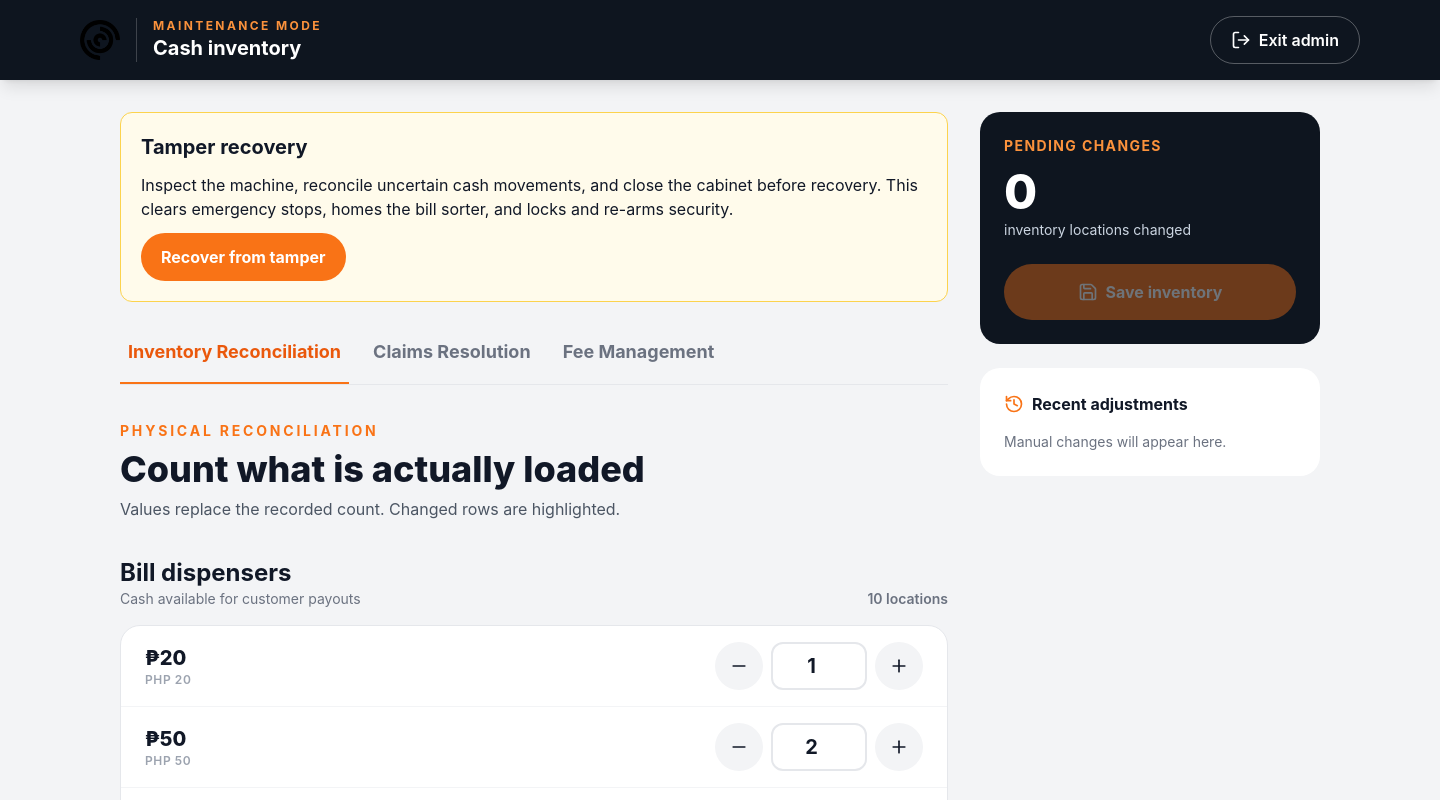
Test: routes provisional STANDARD claims to the appropriate review
This screenshot has width=1440, height=800.
Click the button "Claims Resolution" at (452, 361), box 365,338 -> 539,384
(page scrolled)
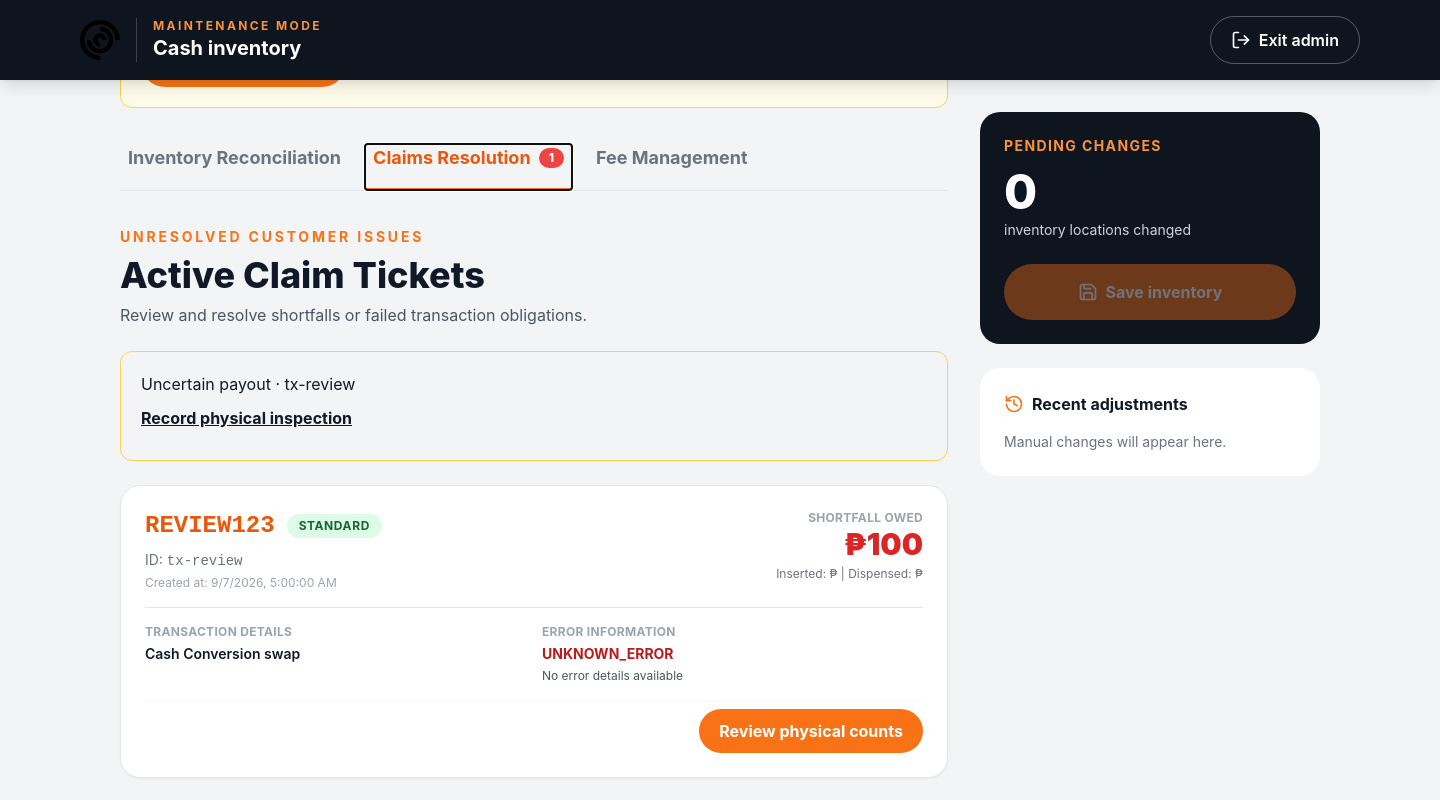
Click the button "Review physical counts" at (811, 731), box 699,709 -> 923,753
(page scrolled)
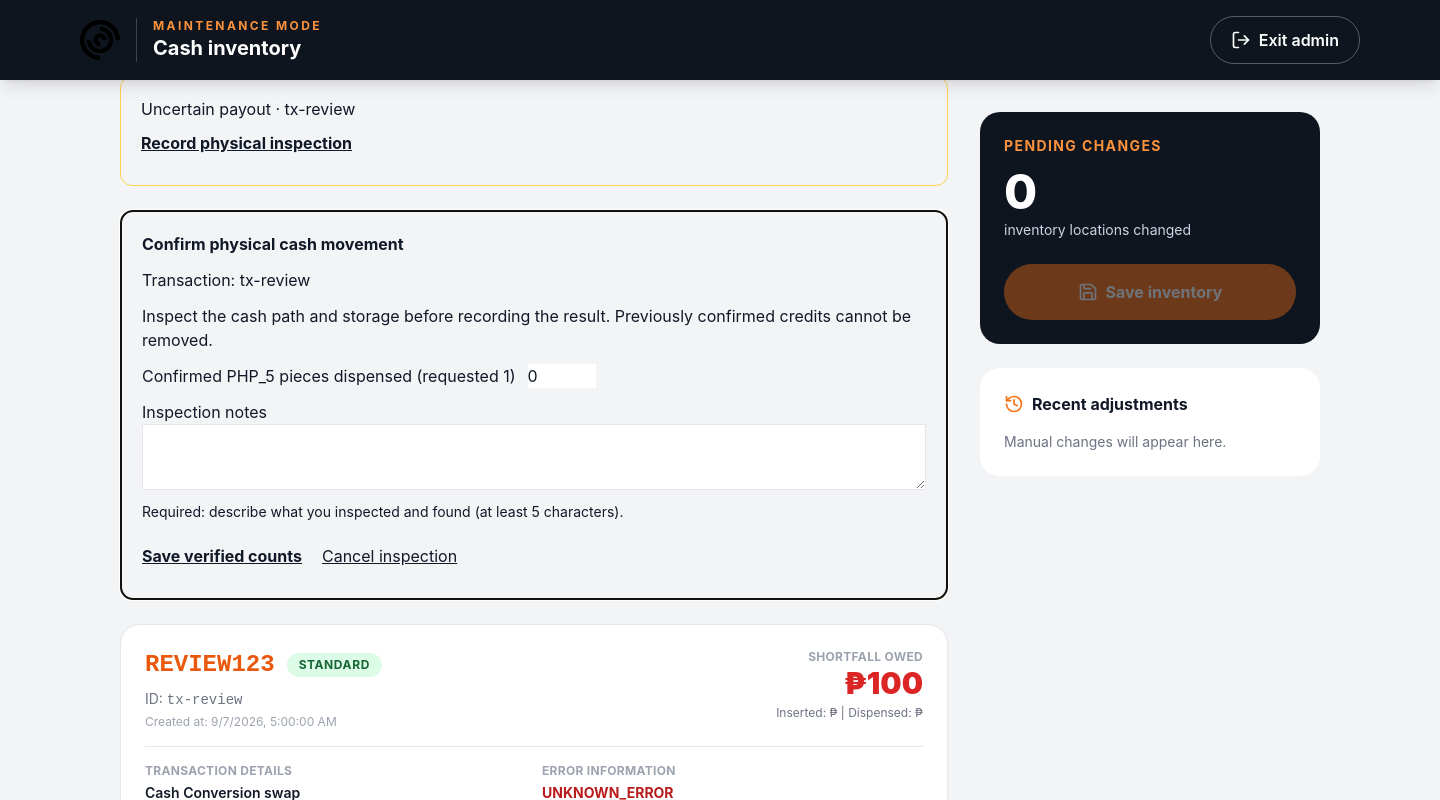
Expected: the heading "Confirm physical cash movement" is shown, 142,234 -> 404,254
Expected: the number field labelled "Confirmed PHP_5 pieces dispensed (requested 1)" is shown, 528,364 -> 596,388
Click the button "Save verified counts" at (222, 556), box 142,534 -> 302,578
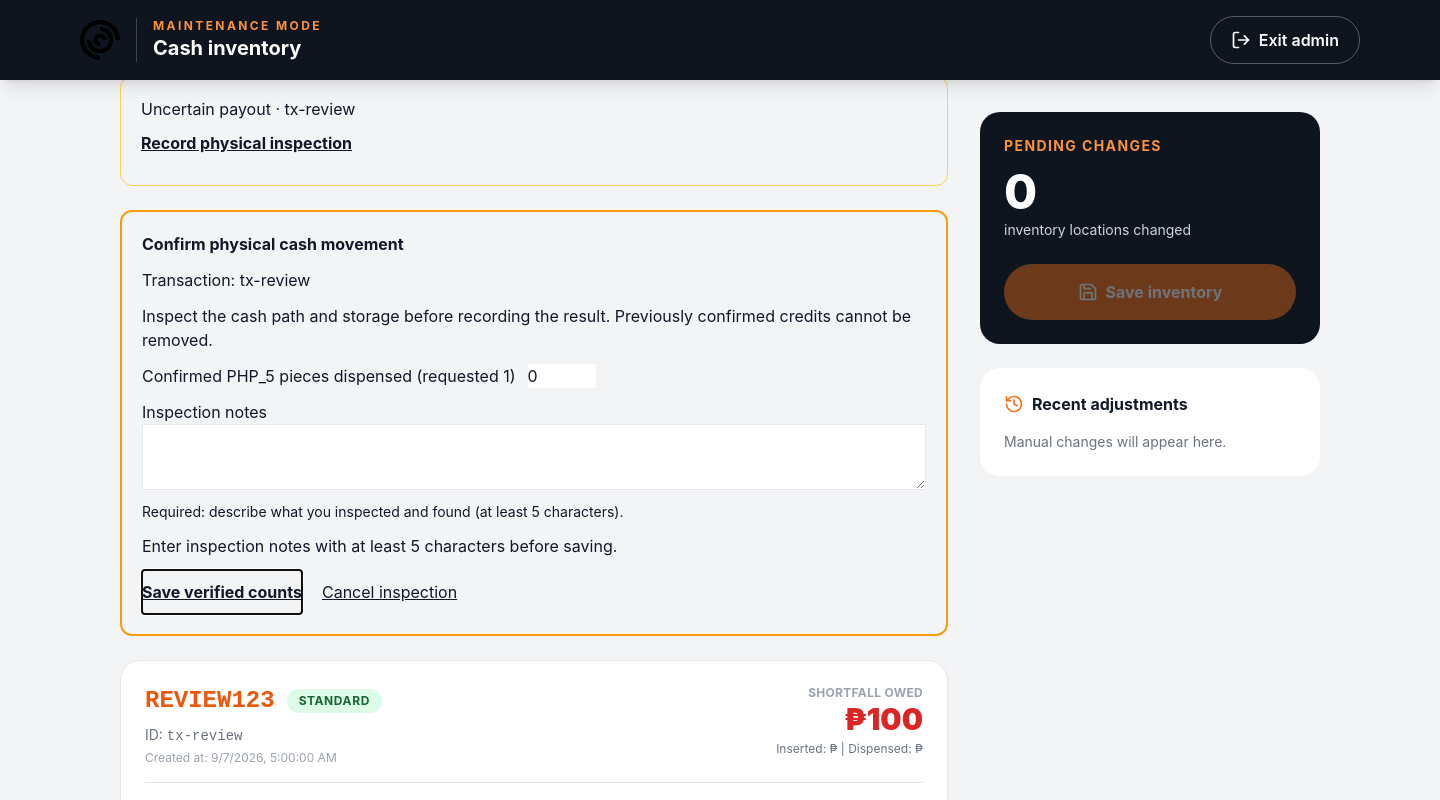
Expected: the message shows "Enter inspection notes with at least 5 characters", 142,536 -> 617,556
Type "Verified one coin" into the text box labelled "Inspection notes" at (534, 457), box 142,424 -> 926,490
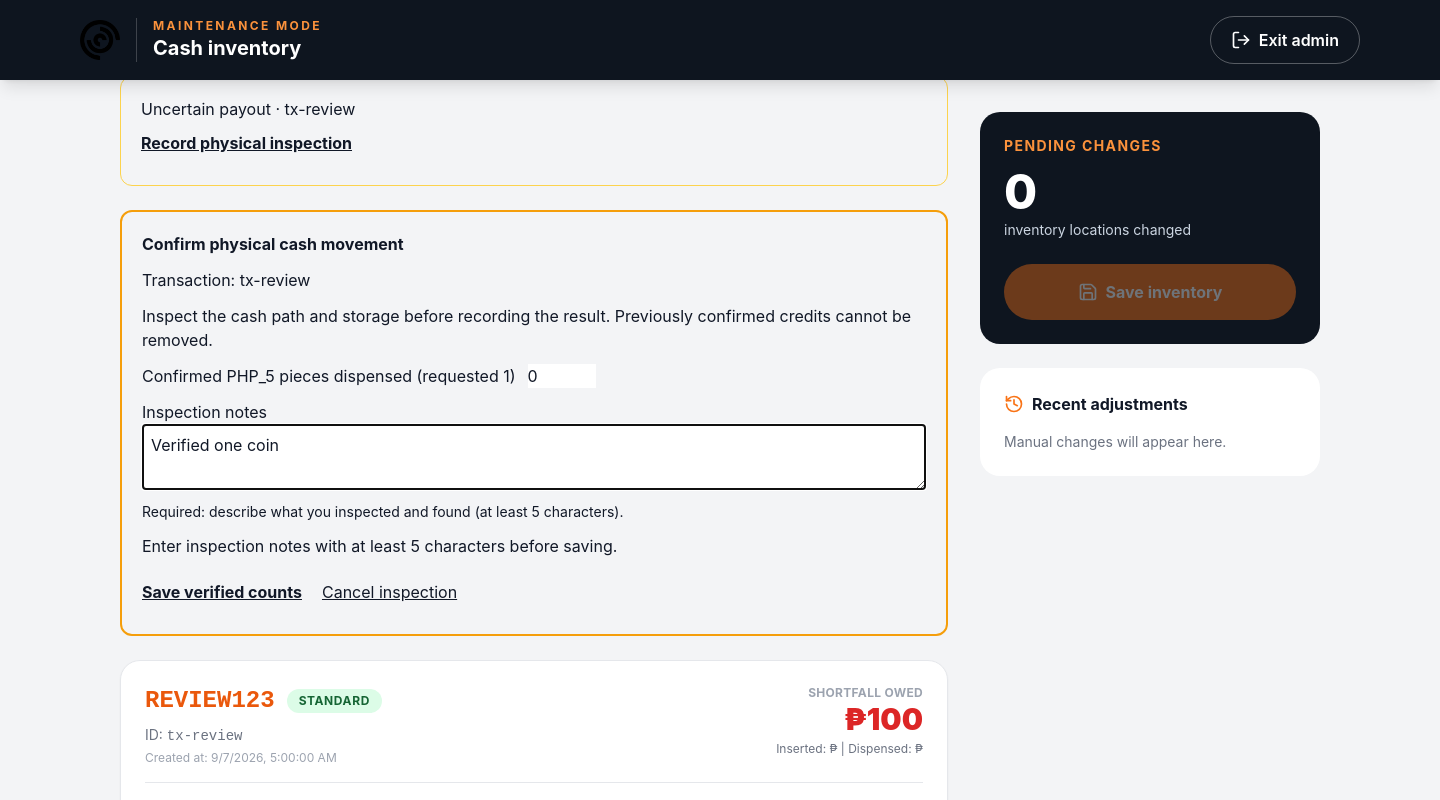
Click the button "Save verified counts" at (222, 592), box 142,570 -> 302,614
(page scrolled)
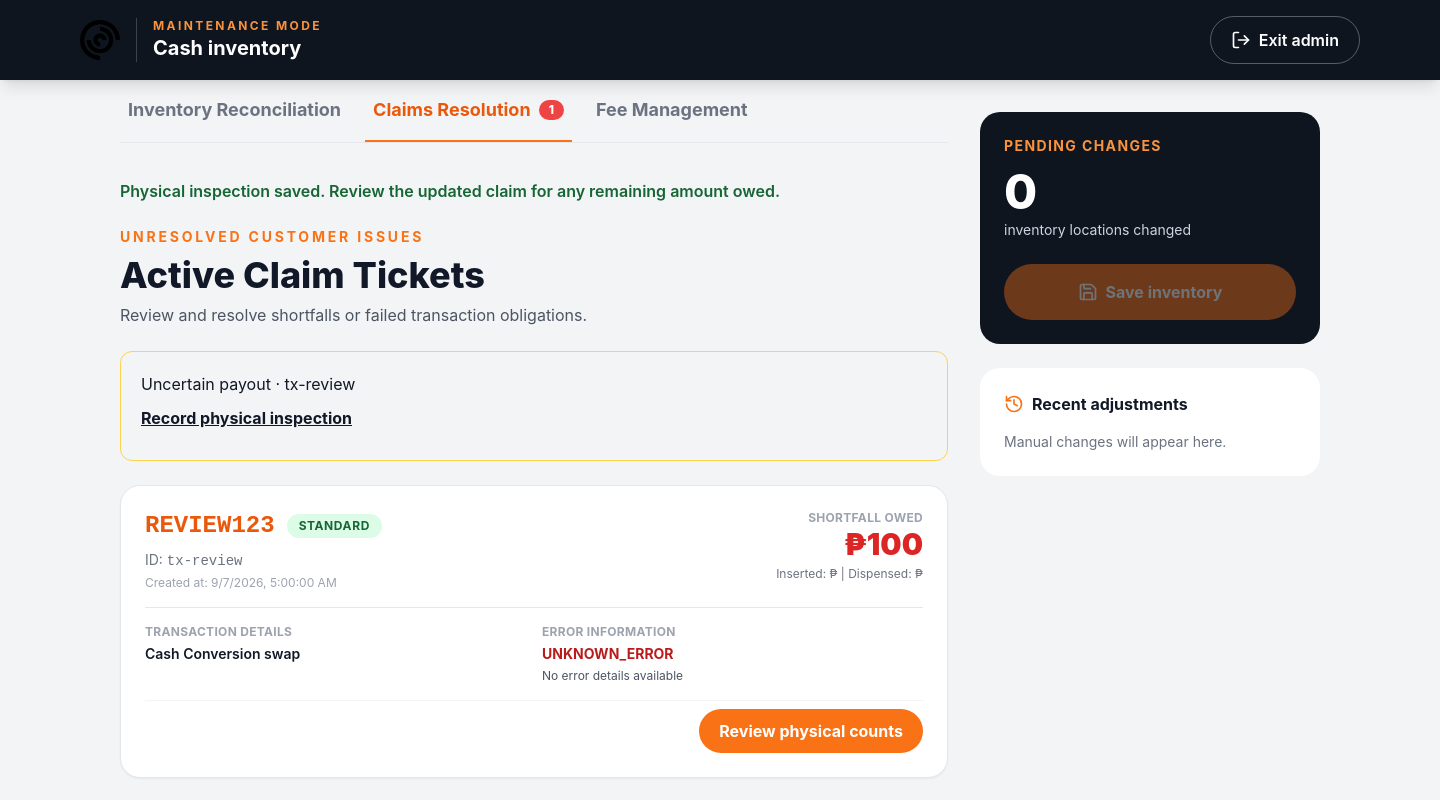
Expected: the message shows "Physical inspection saved", 120,181 -> 780,201
